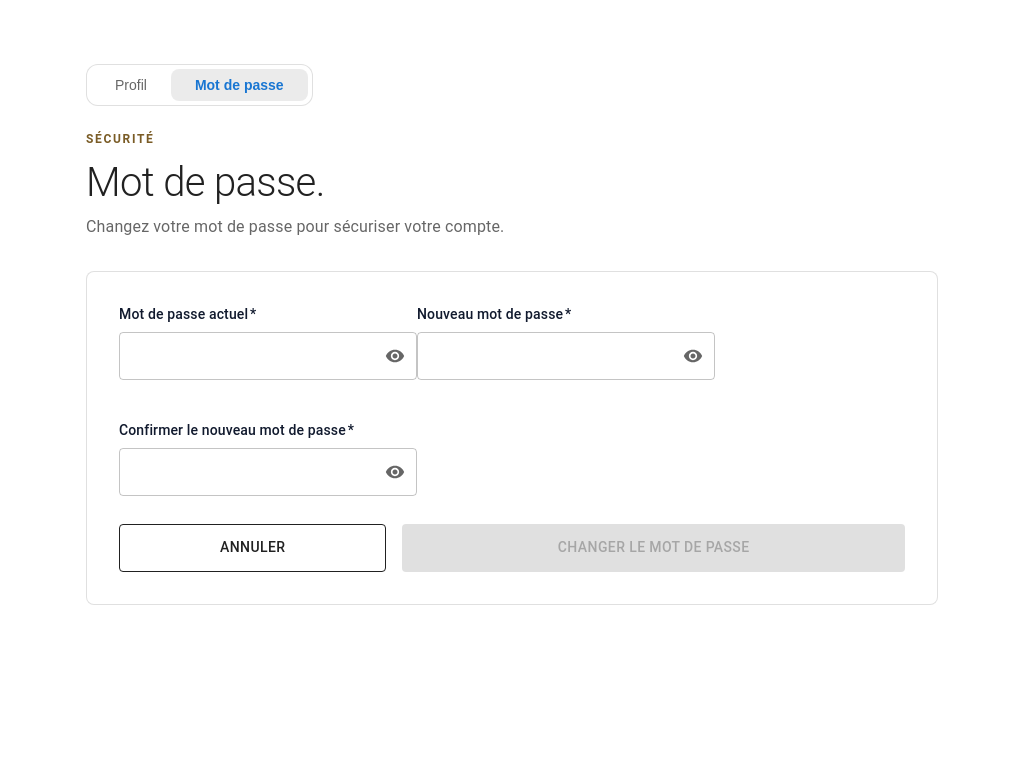
Scenario: /settings/password — redirection après succès › NE redirige PAS si le mot de passe actuel est refusé (401/400)
Type "Ancien123!" into the password field labelled "Mot de passe actuel *" at coordinates (243, 356), box [119,332,367,380]
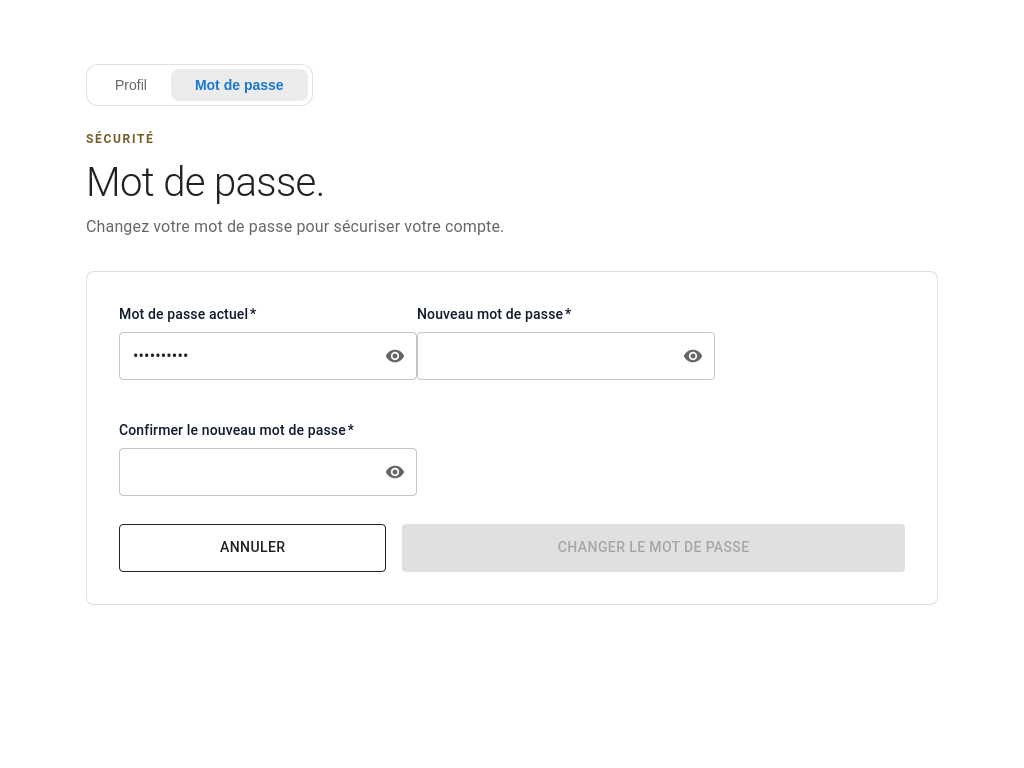
Type "Nouveau456!" into the password field labelled "Nouveau mot de passe *" at coordinates (541, 356), box [417,332,665,380]
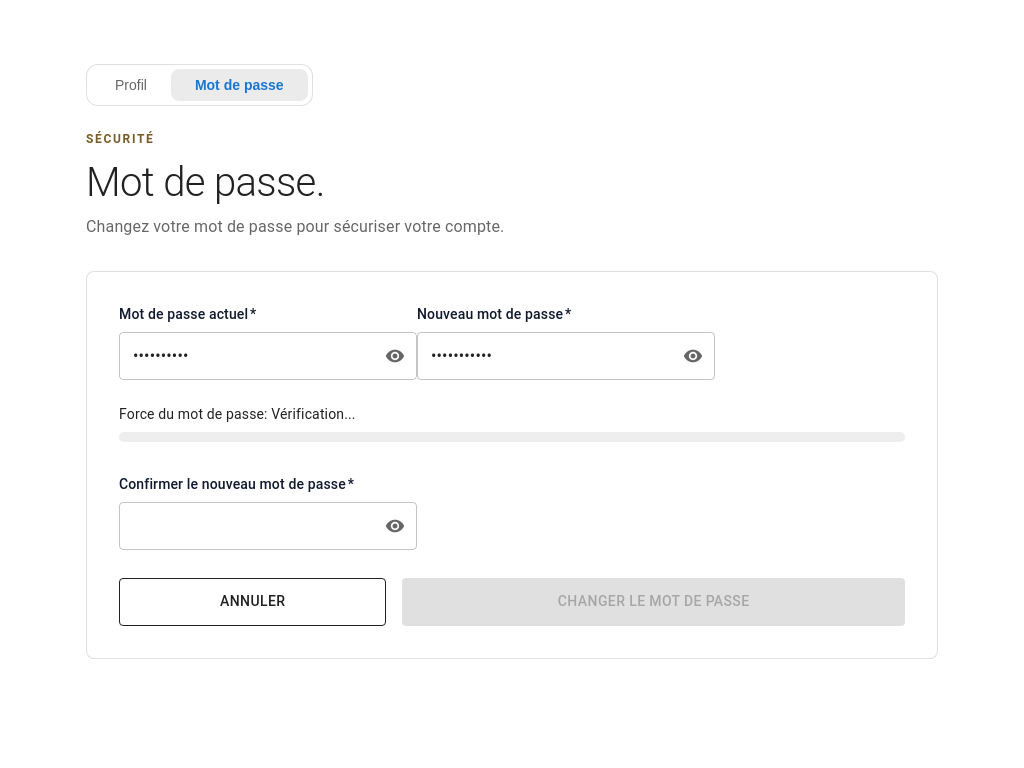
Type "Nouveau456!" into the password field labelled "Confirmer le nouveau mot de passe *" at coordinates (243, 526), box [119,502,367,550]
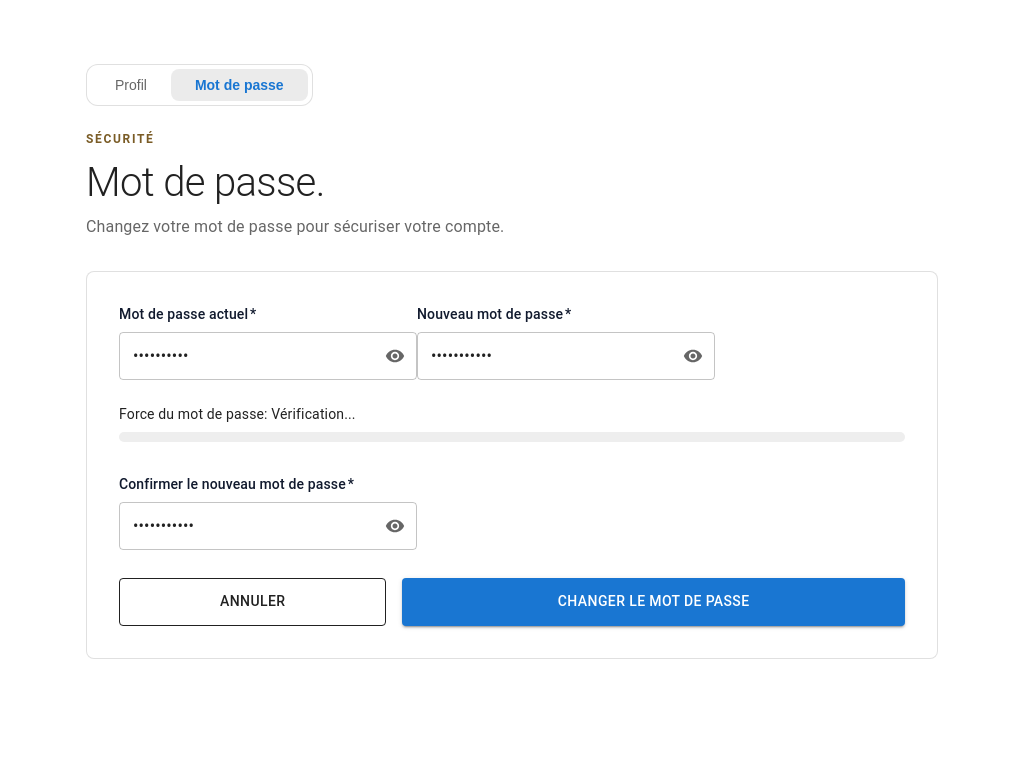
Click the button "Changer le mot de passe" at coordinates (654, 602), box [402,578,905,626]
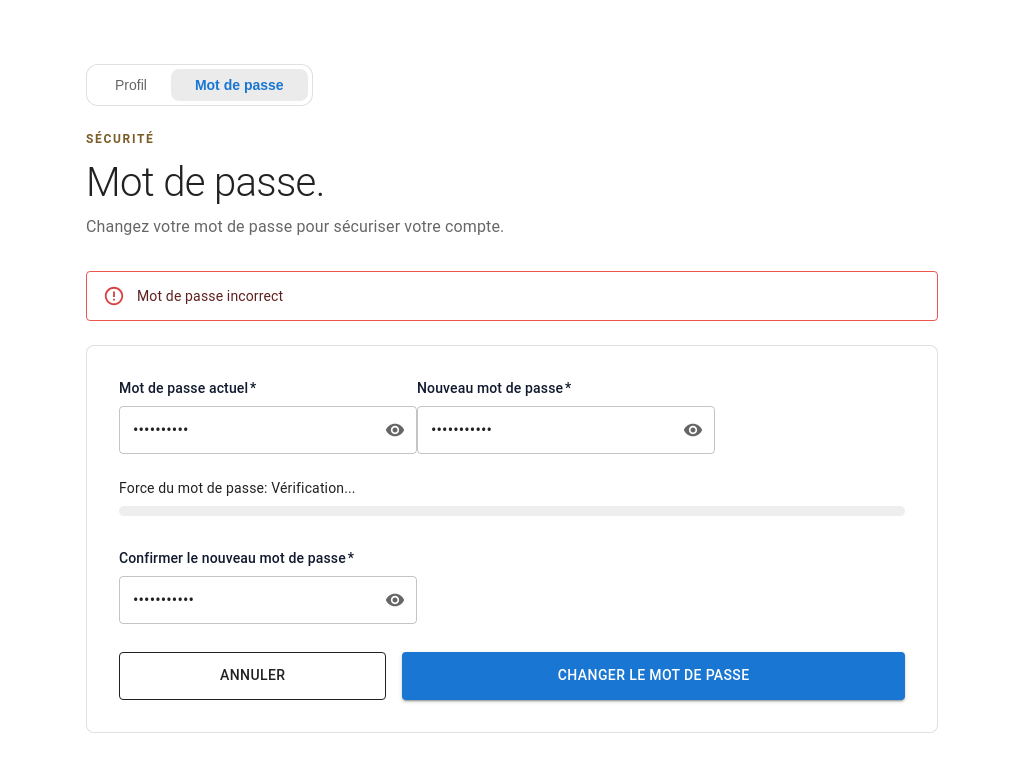
Check: the text "Mot de passe incorrect" is shown, box [137,288,283,304]
